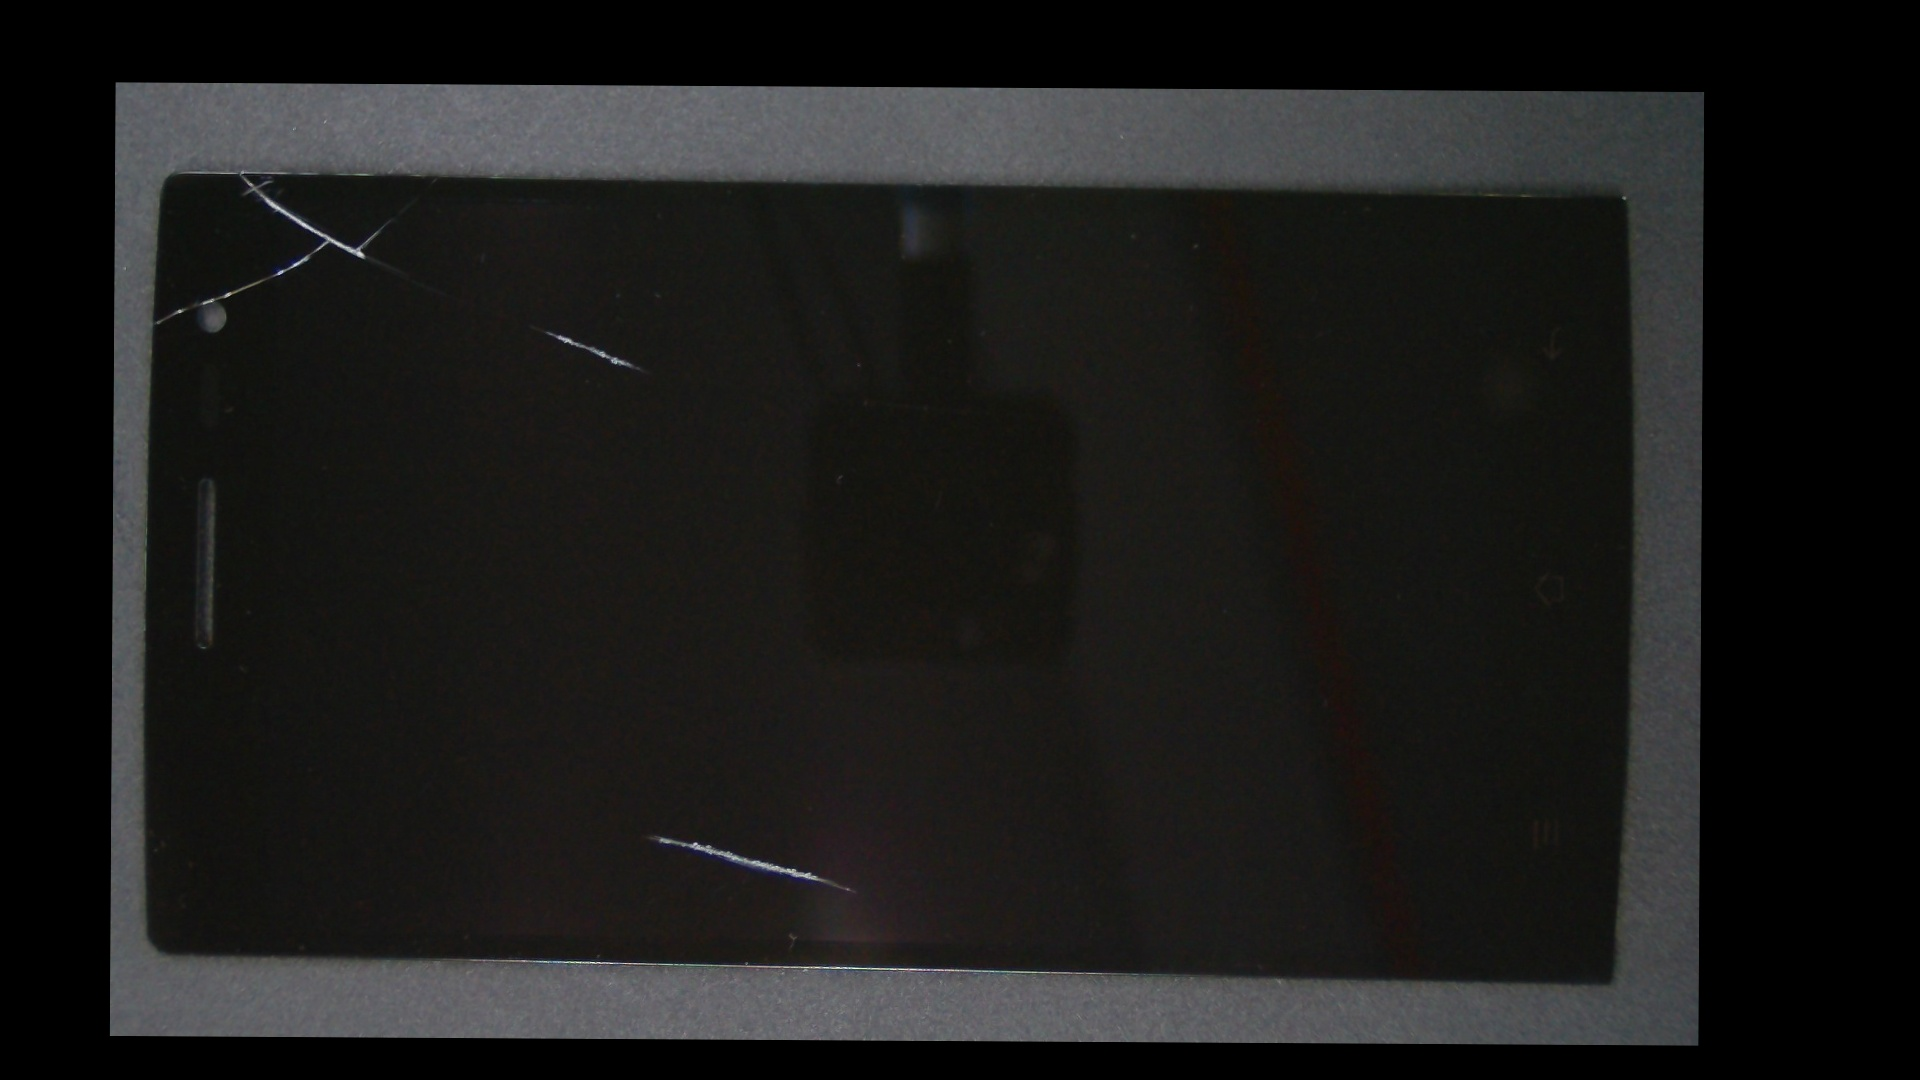oil: (380, 458, 919, 1040), (326, 206, 753, 452), (179, 128, 307, 220)
